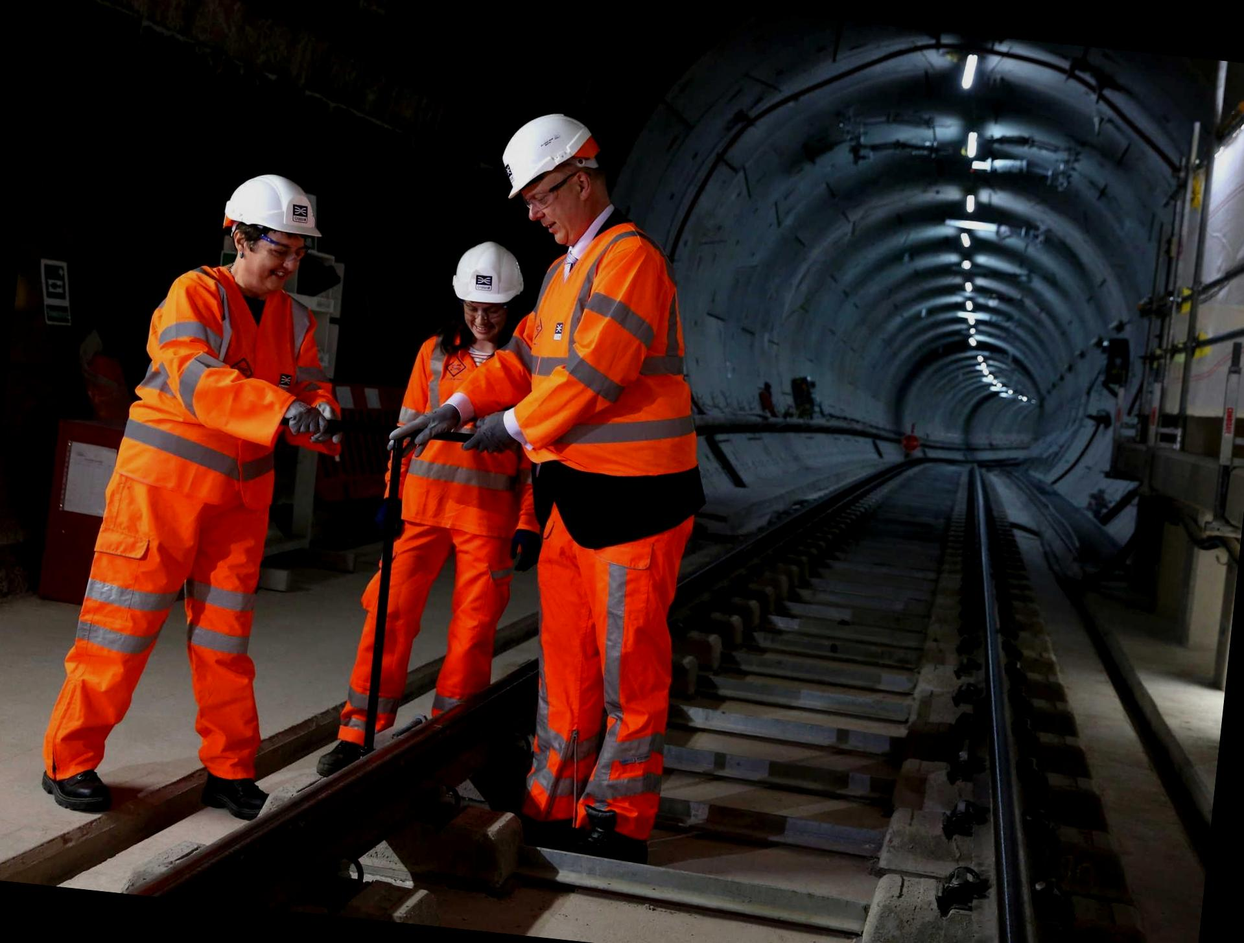helmet: (490, 107, 617, 208), (221, 163, 330, 255), (449, 236, 530, 310)
person: (428, 102, 749, 845), (28, 146, 350, 834), (362, 229, 554, 769)
